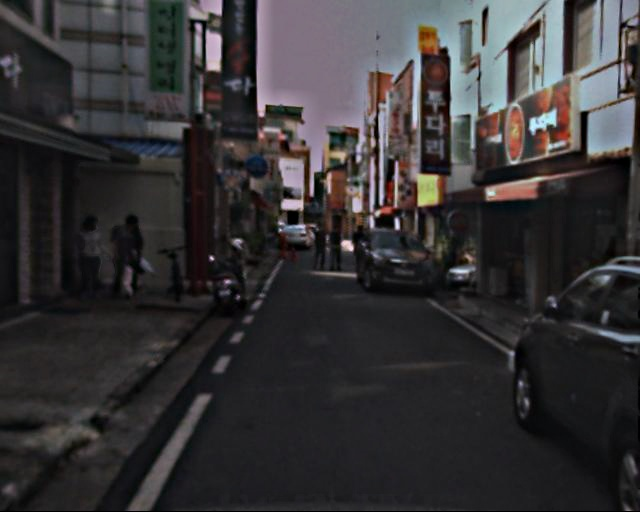person: (76, 212, 121, 297), (113, 212, 154, 298), (349, 225, 369, 274), (327, 227, 346, 274), (311, 225, 330, 271)
